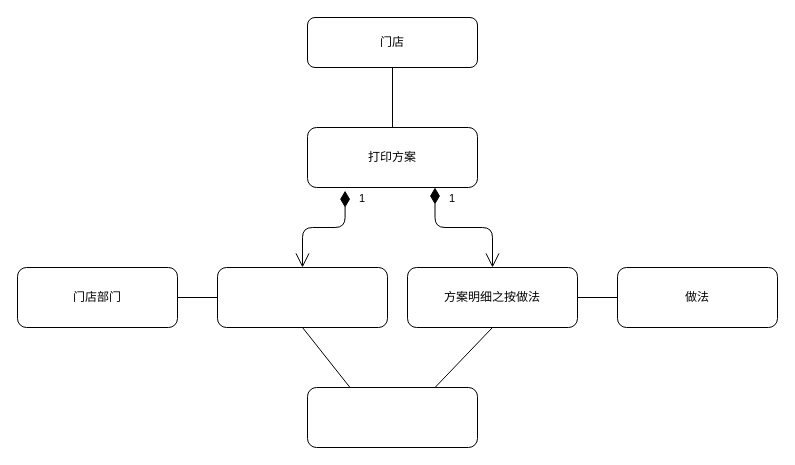
This 795x465 diagram has some shape labels left out. Here are the shapes that lost their labels. From the top down, the box of each, then its label:
(216, 266, 388, 328): 方案明细之按菜品
(306, 386, 478, 448): 菜品
